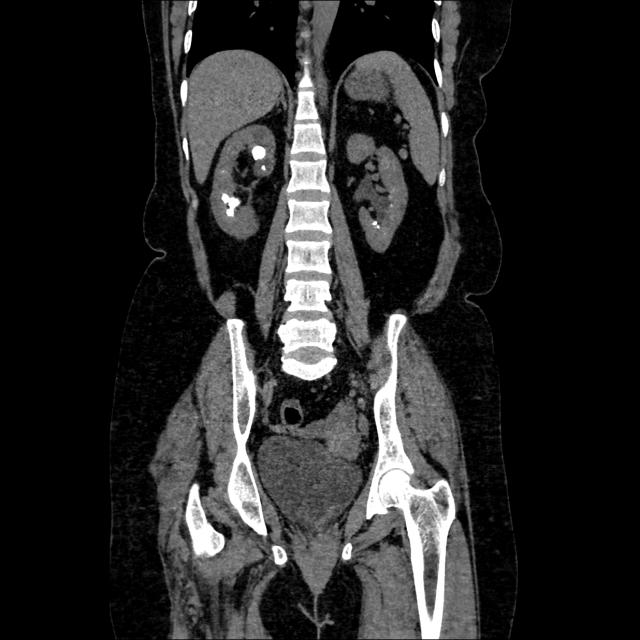kidney: (211, 115, 278, 244), (346, 133, 409, 255)
stone: (227, 195, 240, 219), (252, 145, 267, 160), (222, 191, 229, 204), (372, 220, 377, 226), (377, 225, 380, 230)
